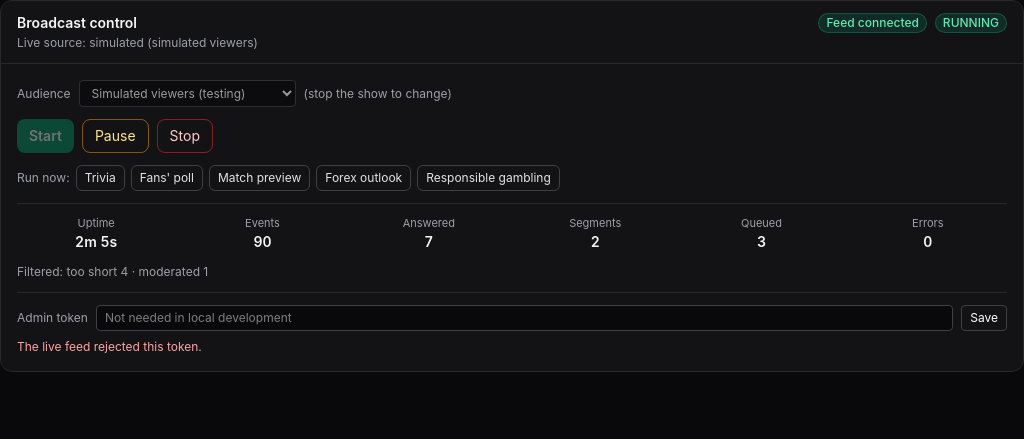
Test: BroadcastPanel › runs a segment on demand and shows errors
Click the button "Trivia" at (100, 178), box [76,165,125,191]
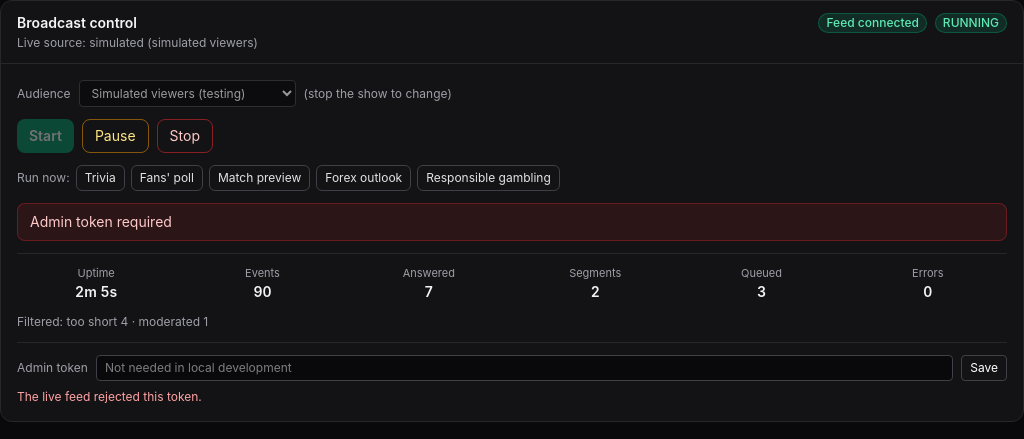
Expected: the text "The live feed rejected this token." is shown, [17,389,202,404]
Expected: the text "Admin token required" is shown, [17,203,1007,241]
